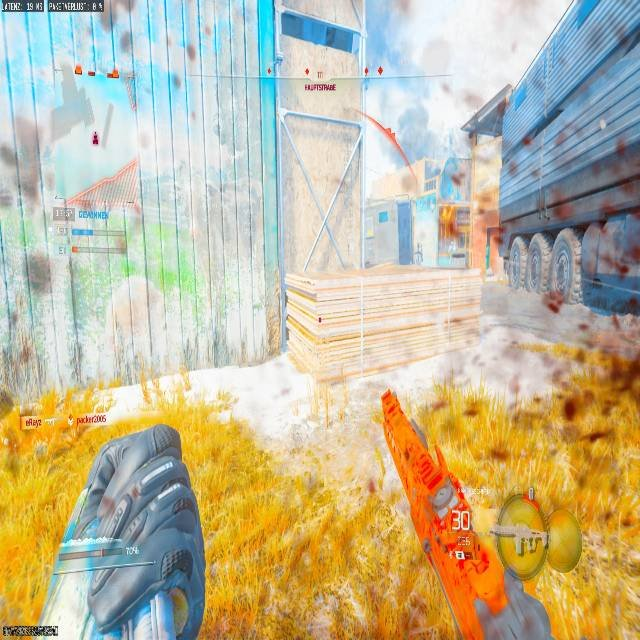head: (36, 417, 210, 638)
